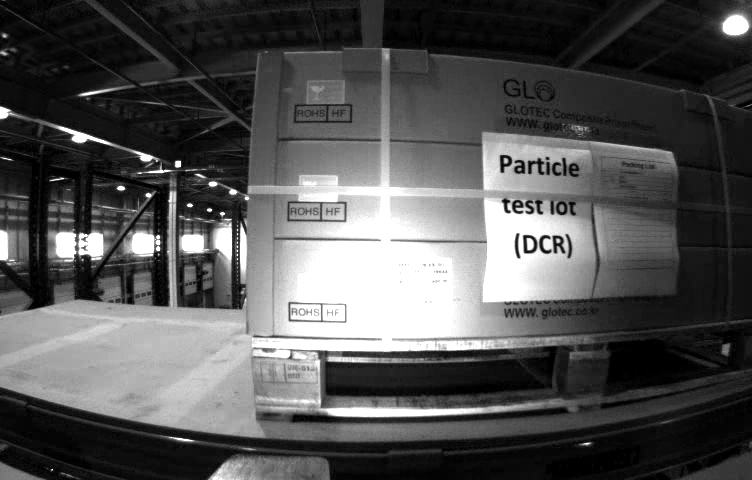True Barcode: (392, 257, 451, 309)
